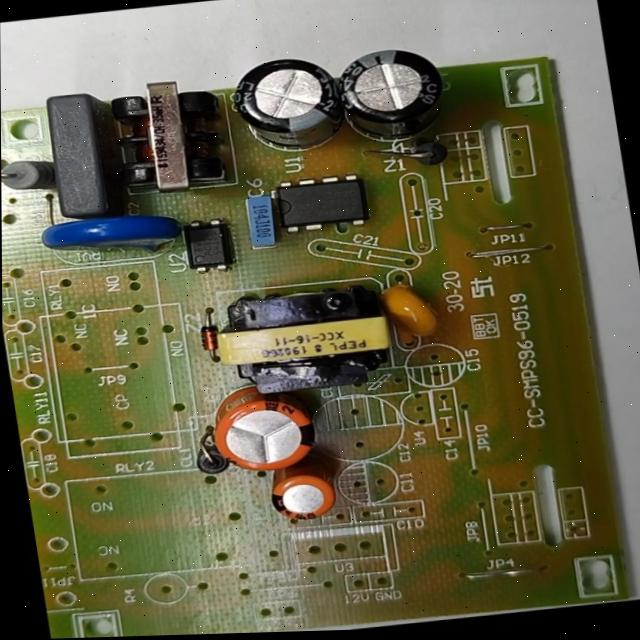Cap1: (199, 376, 328, 485)
Cap2: (244, 460, 359, 536)
Cap3: (219, 39, 352, 176)
Cap4: (326, 30, 467, 163)
MOSFET: (257, 164, 382, 247)
Mov: (20, 203, 200, 284)
Resistor: (1, 148, 59, 201)
Transformer: (182, 264, 422, 419), (78, 71, 261, 224)
